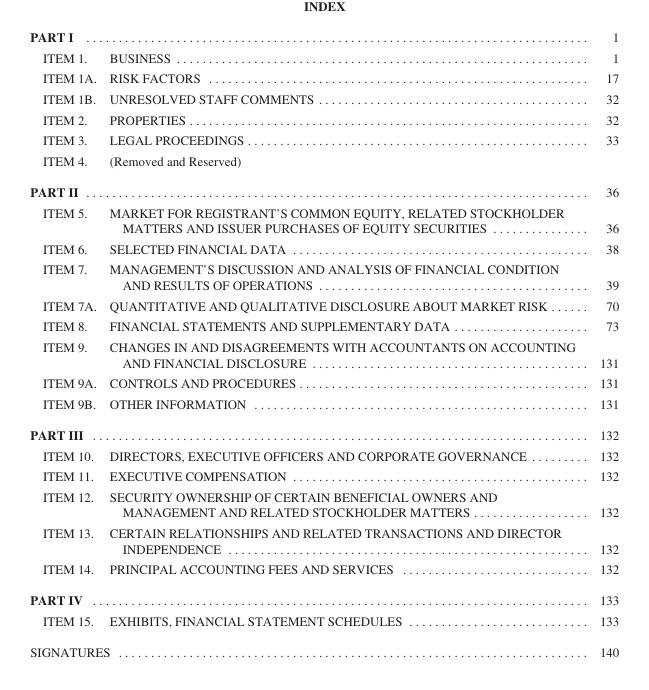table: (29, 28, 618, 658)
table column: (102, 28, 592, 658), (29, 28, 102, 658), (592, 28, 618, 658)
table column header: (29, 28, 618, 175)
table row: (29, 46, 618, 175), (29, 201, 618, 238), (29, 258, 618, 294), (29, 336, 618, 372), (29, 486, 618, 522), (29, 522, 618, 558), (29, 175, 618, 201), (29, 418, 618, 444), (29, 558, 618, 584), (29, 584, 618, 610), (29, 610, 618, 636), (29, 393, 618, 418), (29, 636, 618, 658), (29, 294, 618, 315), (29, 315, 618, 336), (29, 372, 618, 393), (29, 444, 618, 465), (29, 465, 618, 486), (29, 238, 618, 258), (29, 28, 618, 46)
table spanning cell: (29, 175, 592, 201), (29, 418, 592, 444), (29, 584, 592, 610), (29, 636, 592, 658), (29, 28, 592, 46), (592, 28, 618, 175)
